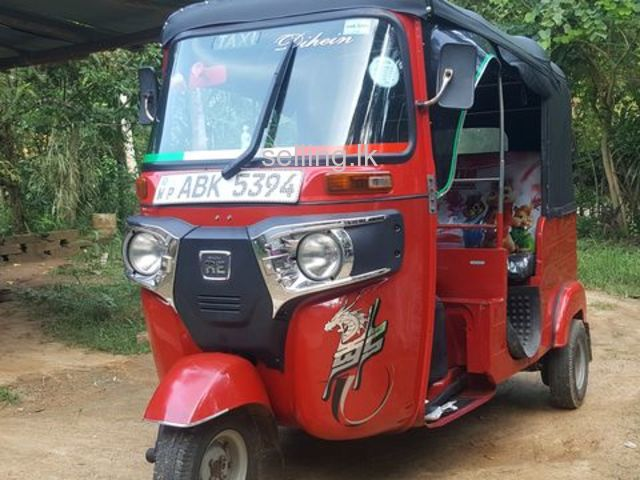threewheel: (121, 1, 592, 480)
